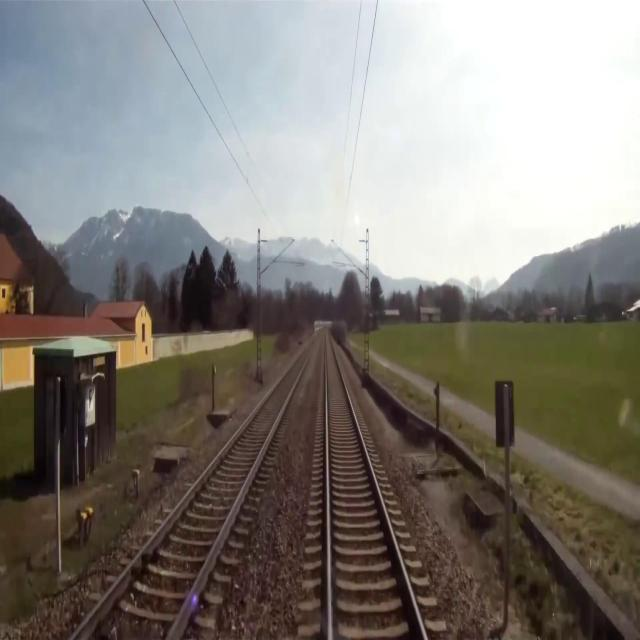rail-track: (74, 340, 314, 639), (327, 332, 423, 639)
